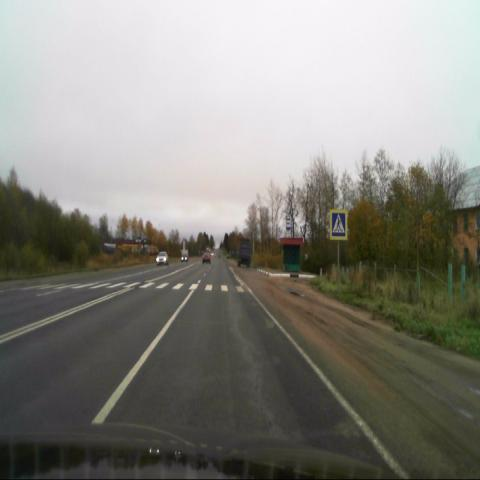5_19_1: (330, 209, 347, 240)
